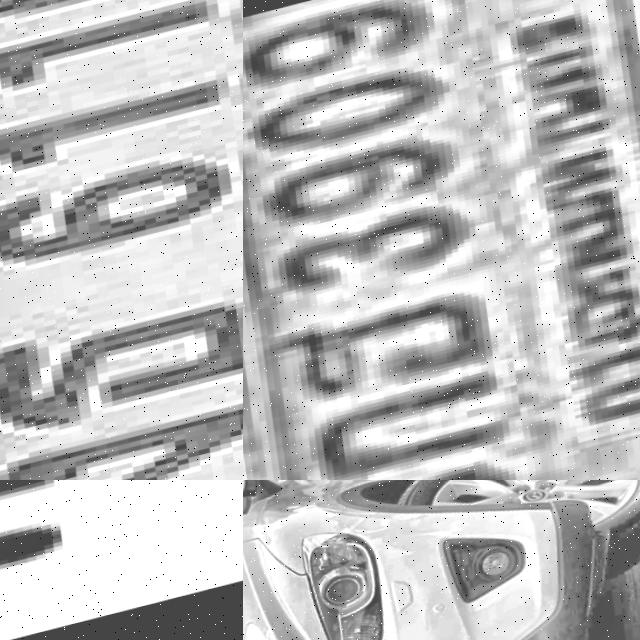license-plate: (243, 0, 640, 480), (0, 0, 243, 480), (0, 480, 243, 640)
